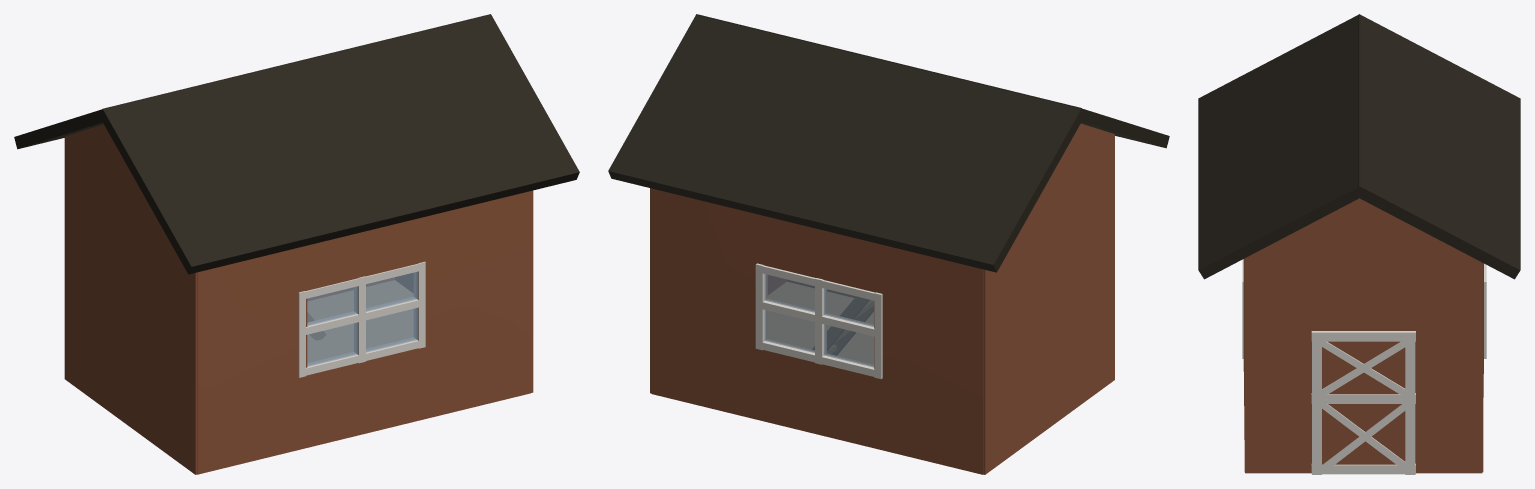
File: FarmHouse.fbx
The picture shows the model from 3 angles, left to right: view 1: azimuth 30°, elevation 25°; view 2: azimuth 150°, elevation 25°; view 3: azimuth 270°, elevation 25°; orthographic projection. The views are drawn at different scales.
Parts seen in each view (by area): view 1: housecombi, pCube12, pCube50, pCube32; view 2: housecombi; view 3: housecombi, door1.
Part boxes in pixels (x1,y1,x2,y2): housecombi: (14,14,579,474); pCube12: (197,191,530,474); pCube50: (307,272,417,366); pCube32: (298,261,425,377); housecombi: (608,14,1169,474); housecombi: (1198,14,1520,473); door1: (1311,331,1415,474).
Bounding box in the file's own units: 38.29 × 30.82 × 30.31.
